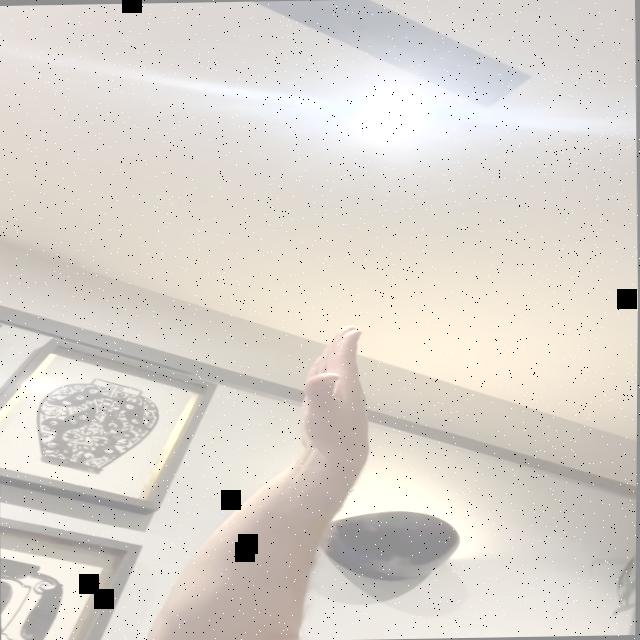Paper: (287, 322, 377, 460)
